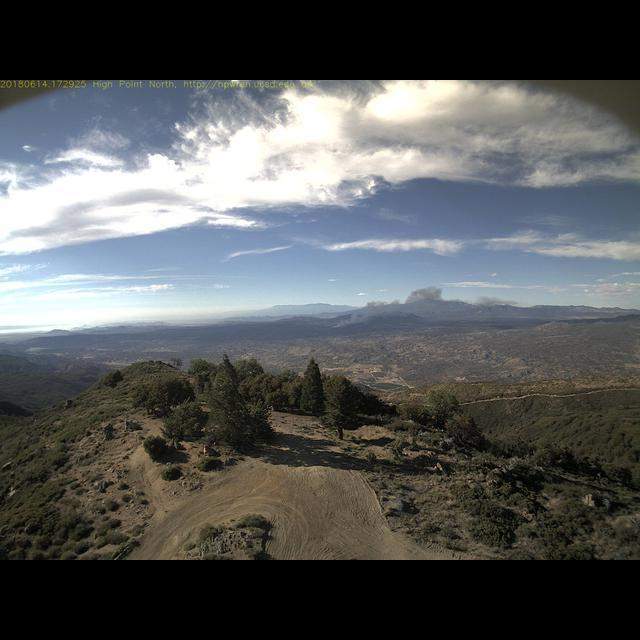Smoke: (329, 282, 520, 330)
